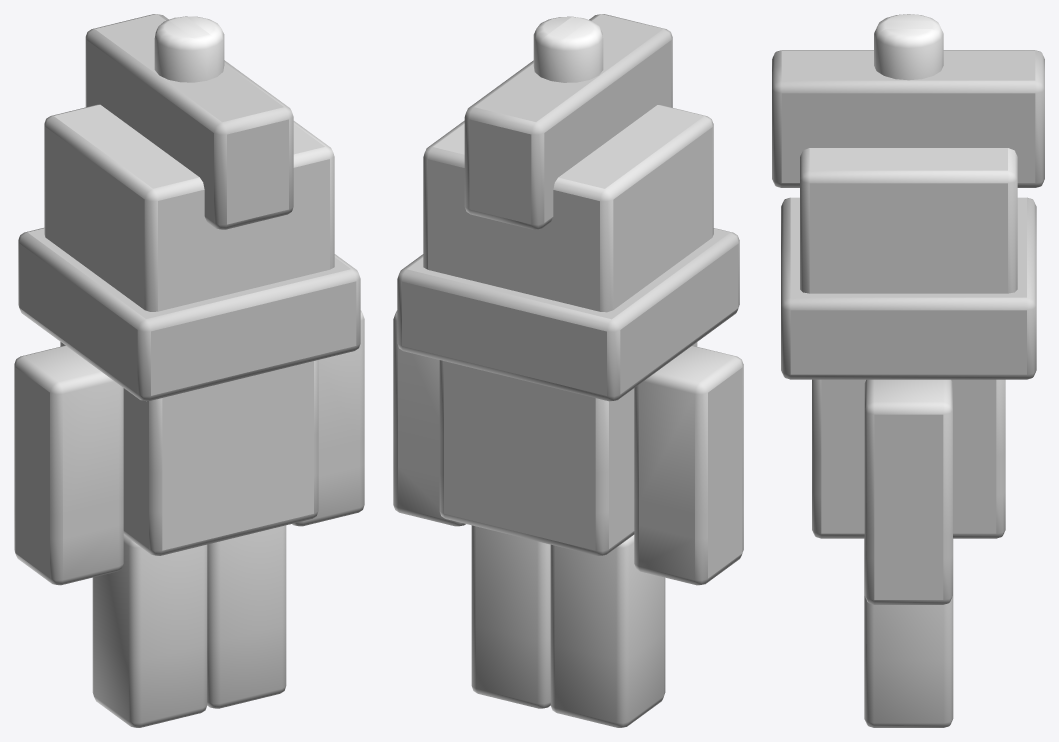
3 renders of one model, left to right at view 1: azimuth 30°, elevation 25°; view 2: azimuth 150°, elevation 25°; view 3: azimuth 270°, elevation 25°, orthographic.
Visible parts, largest first — view 1: Cube-Lv2-R; view 2: Cube-Lv2-R; view 3: Cube-Lv2-R.
Part boxes in pixels (x1,y1,x2,y2): Cube-Lv2-R: [14, 14, 364, 727]; Cube-Lv2-R: [393, 14, 743, 727]; Cube-Lv2-R: [772, 14, 1044, 727].
Bounding box in the file's own units: 0.5961 × 1.22 × 0.4505.
